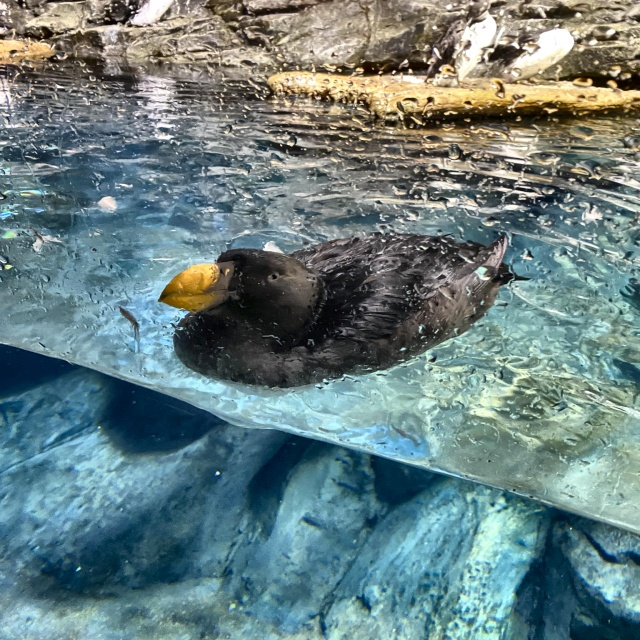puffin: (160, 233, 512, 394), (425, 0, 494, 86), (500, 29, 572, 83)
